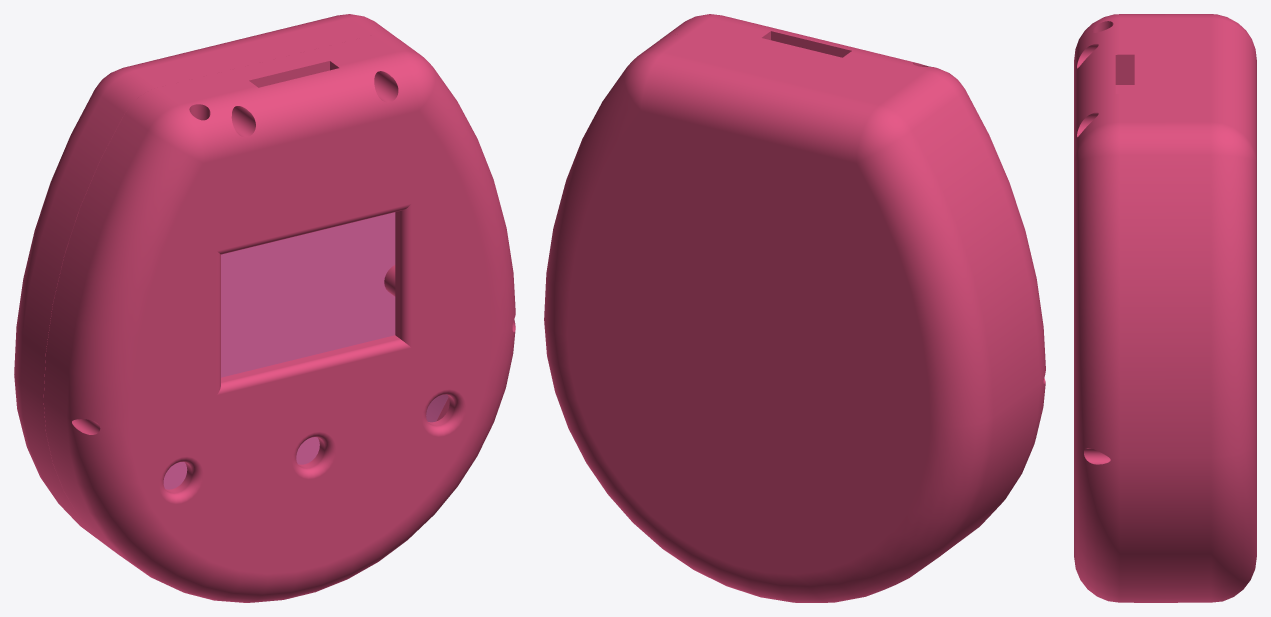
File: MENG-GOTCHI.obj
3 renders of one model, left to right at view 1: azimuth 30°, elevation 25°; view 2: azimuth 150°, elevation 25°; view 3: azimuth 270°, elevation 25°, orthographic.
Visible parts, largest first — view 1: Body6, Body7; view 2: Body7, Body6; view 3: Body7, Body6.
Boxes of the visible parts, left/top/right/bottom form: Body6: left=43, top=34, right=515, bottom=602; Body7: left=14, top=14, right=448, bottom=553; Body7: left=544, top=34, right=1016, bottom=602; Body6: left=660, top=14, right=1045, bottom=551; Body7: left=1165, top=14, right=1256, bottom=602; Body6: left=1074, top=14, right=1165, bottom=602.
Size of the model in its own units: 6.08 by 6.75 by 2.2.
